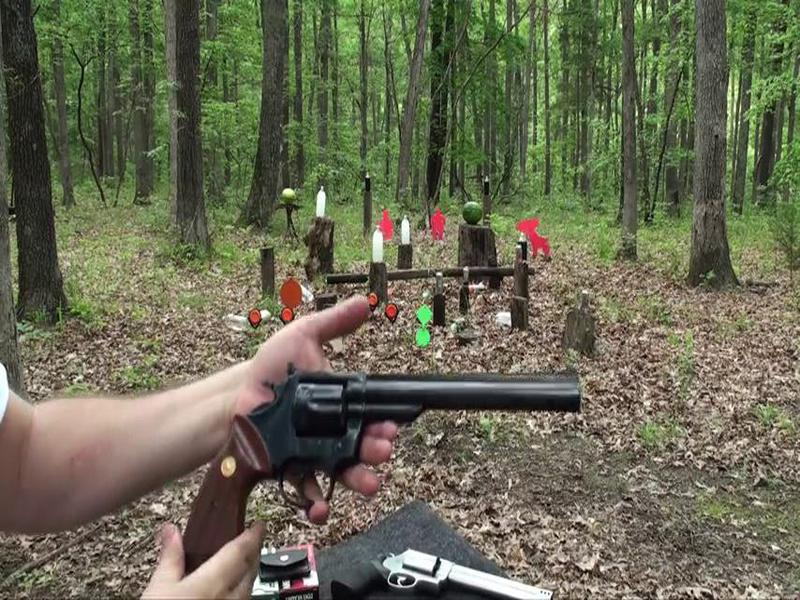Revolver: (200, 348, 590, 510)
